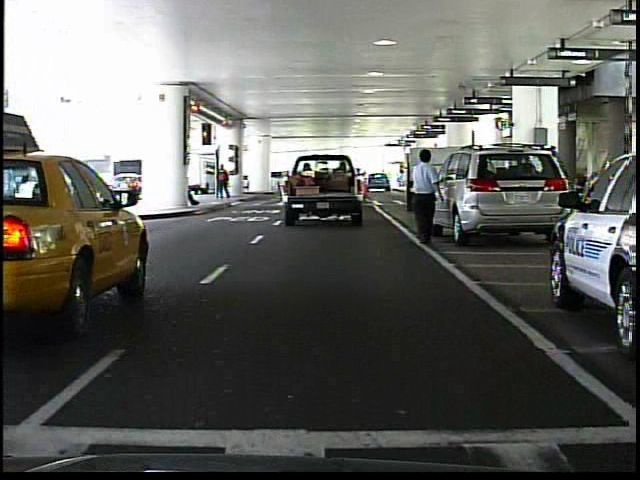person: (403, 145, 448, 245), (215, 163, 235, 203)
